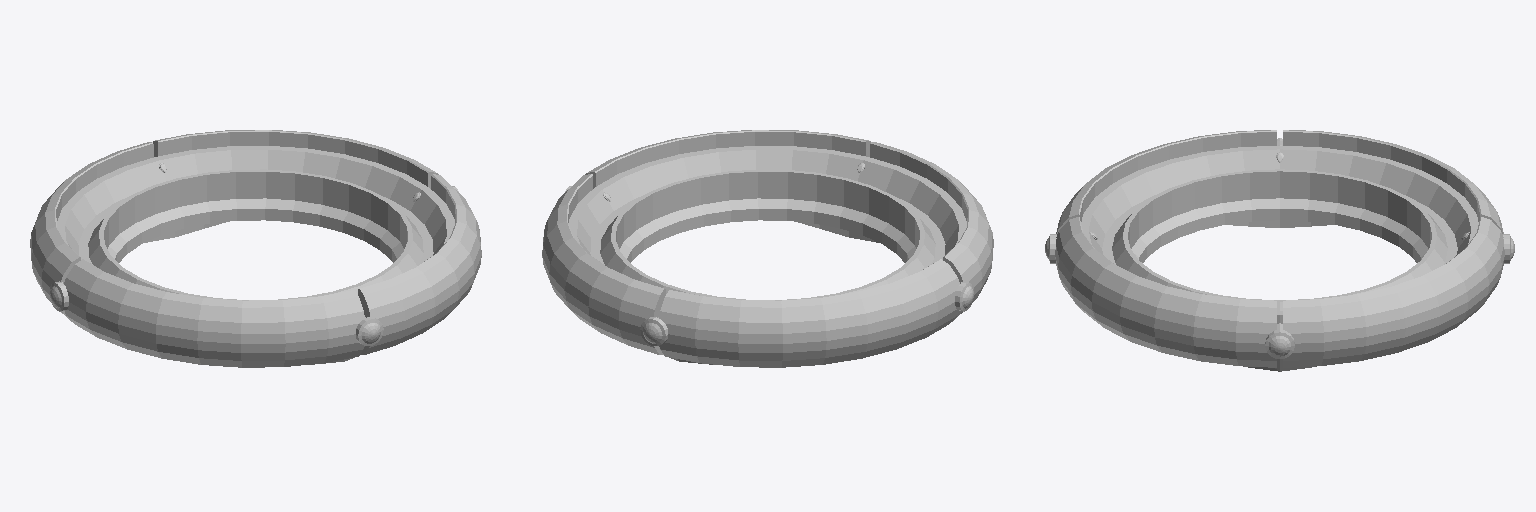
The model's file is CapitalFactory.obj.
3 views of the same model, side by side, from view 1: azimuth 30°, elevation 25°; view 2: azimuth 150°, elevation 25°; view 3: azimuth 270°, elevation 25° (orthographic).
Size of the model in its own units: 1.68 by 0.3202 by 1.68.